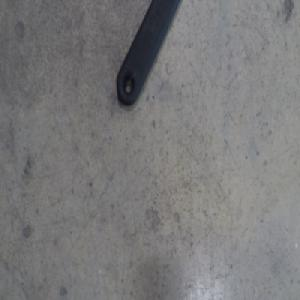AdjustableWrench: (117, 0, 178, 105)
